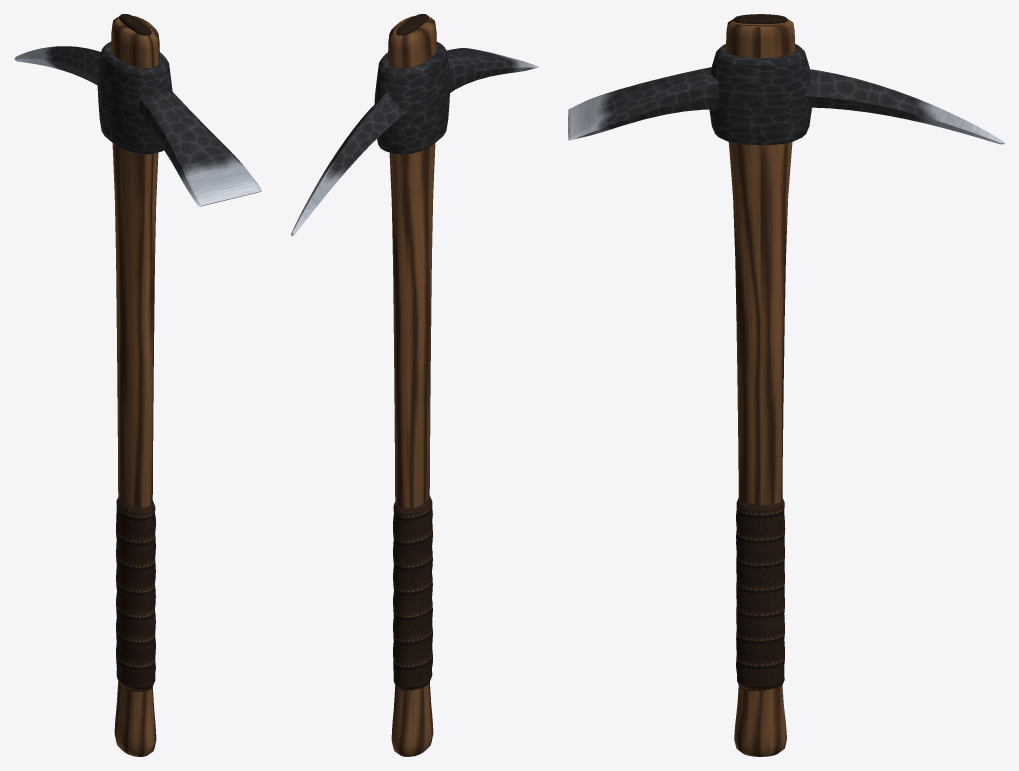
The model's file is pickaxe.glb.
The picture shows the model from 3 angles, left to right: view 1: azimuth 30°, elevation 25°; view 2: azimuth 150°, elevation 25°; view 3: azimuth 270°, elevation 25°; orthographic projection.
Visible parts, largest first — view 1: Pickaxe_AAA; view 2: Pickaxe_AAA; view 3: Pickaxe_AAA.
Boxes of the visible parts, <box> form: Pickaxe_AAA: <box>14,14,262,756</box>; Pickaxe_AAA: <box>291,14,538,756</box>; Pickaxe_AAA: <box>568,14,1004,756</box>.
Bounding box in the file's own units: 0.072 × 0.78 × 0.4202.
1 material, 1 textured.
